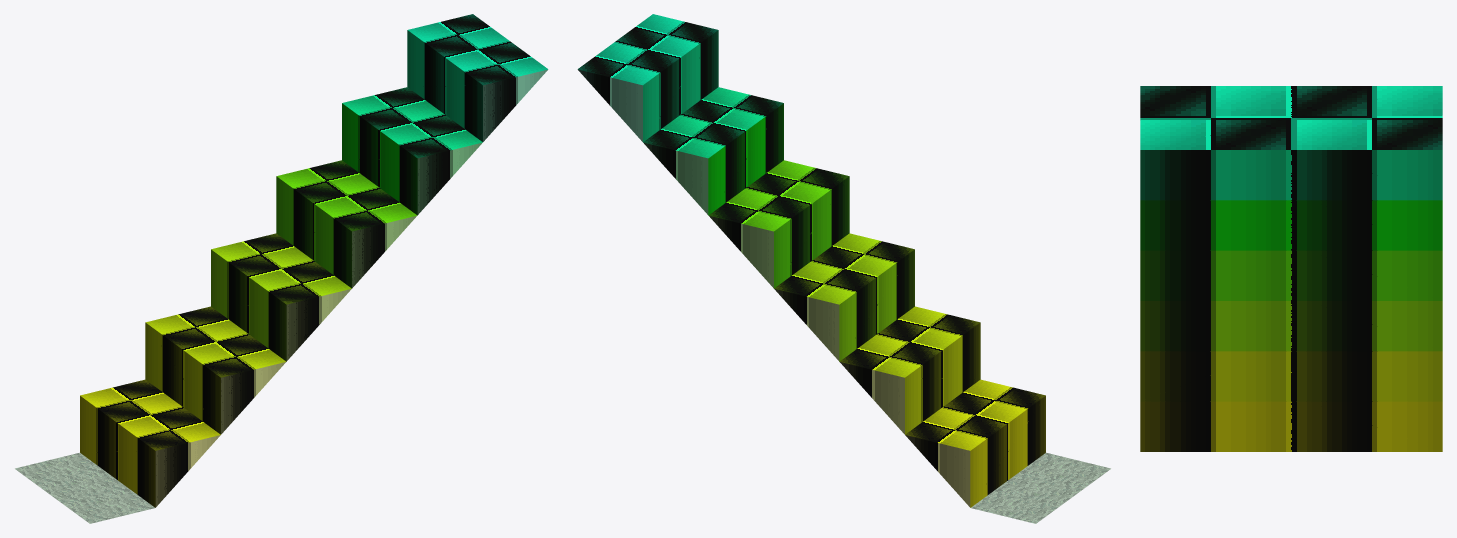
The model's file is km3_dan0.glb.
3 views of the same model, side by side, from view 1: azimuth 30°, elevation 25°; view 2: azimuth 150°, elevation 25°; view 3: azimuth 270°, elevation 25° (orthographic). The views are drawn at different scales.
Visible parts, largest first — view 1: km3_dan0; view 2: km3_dan0; view 3: km3_dan0.
Boxes of the visible parts, x1,y1,x2,y2 form: km3_dan0: [15, 14, 548, 523]; km3_dan0: [577, 14, 1110, 523]; km3_dan0: [1140, 86, 1442, 451].
Size of the model in its own units: 262 by 188 by 75.
Materials: 2 (2 with a texture image).
